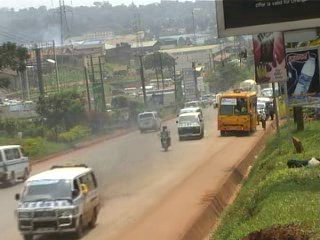Motorcycle: (157, 124, 171, 151)
